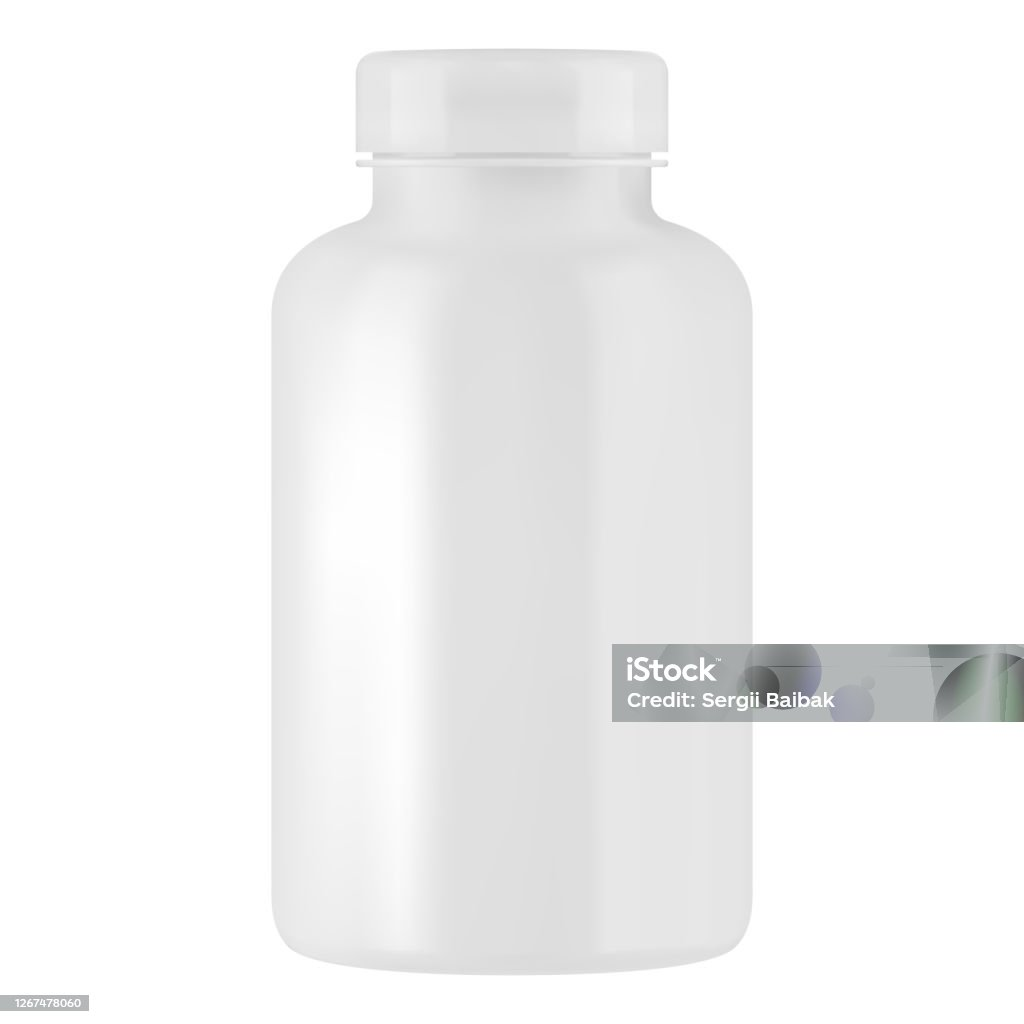medicinejar: (275, 47, 767, 983)
